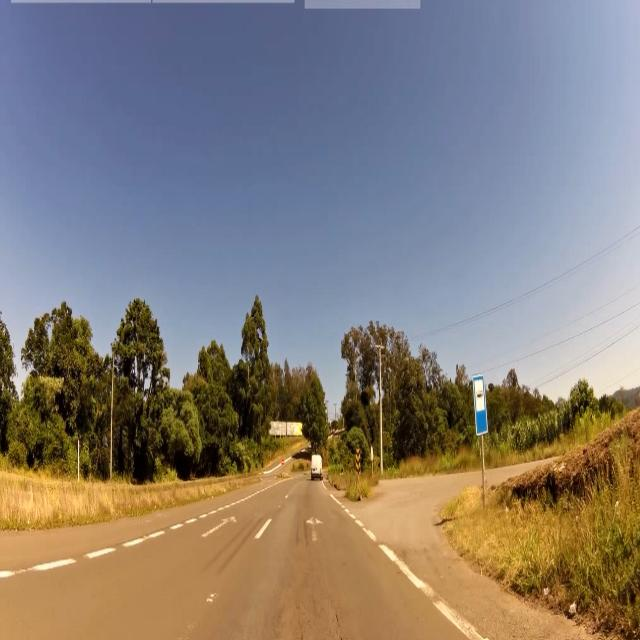S-14: (472, 375, 488, 436)
